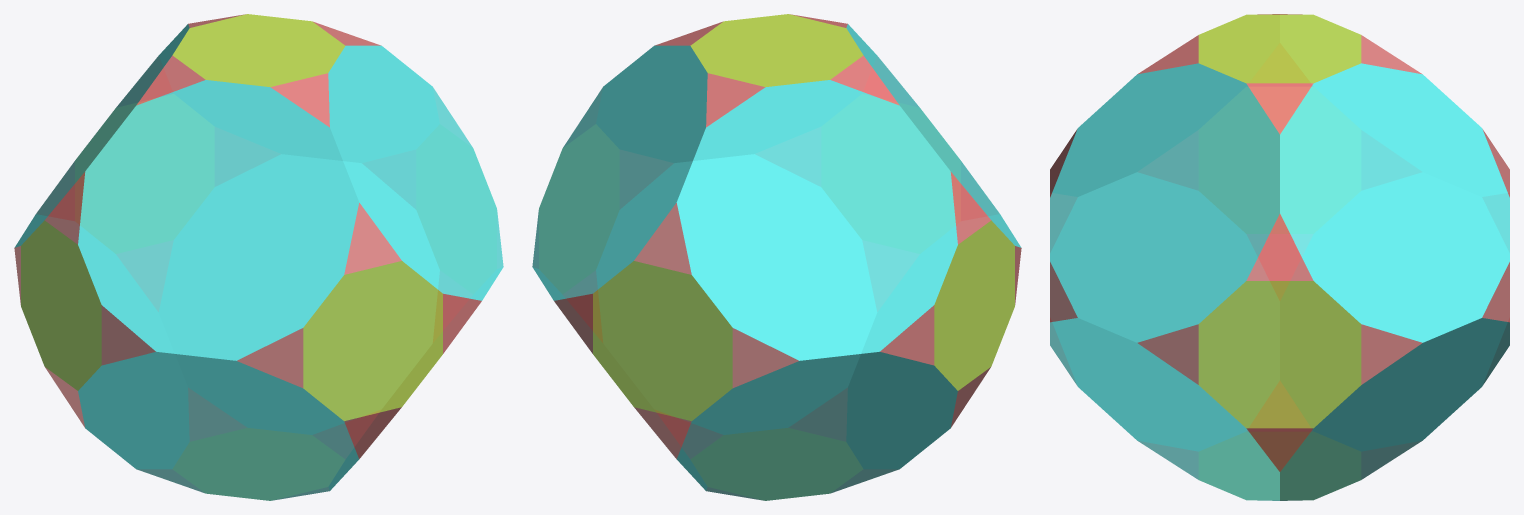
Rendered from BiTruncatedOctahedron.obj.
The picture shows the model from 3 angles, left to right: view 1: azimuth 30°, elevation 25°; view 2: azimuth 150°, elevation 25°; view 3: azimuth 270°, elevation 25°; orthographic projection.
Size of the model in its own units: 1.89 by 1.89 by 1.89.
